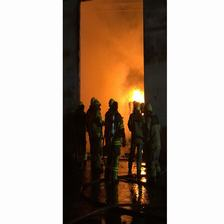fire: (121, 63, 154, 109)
